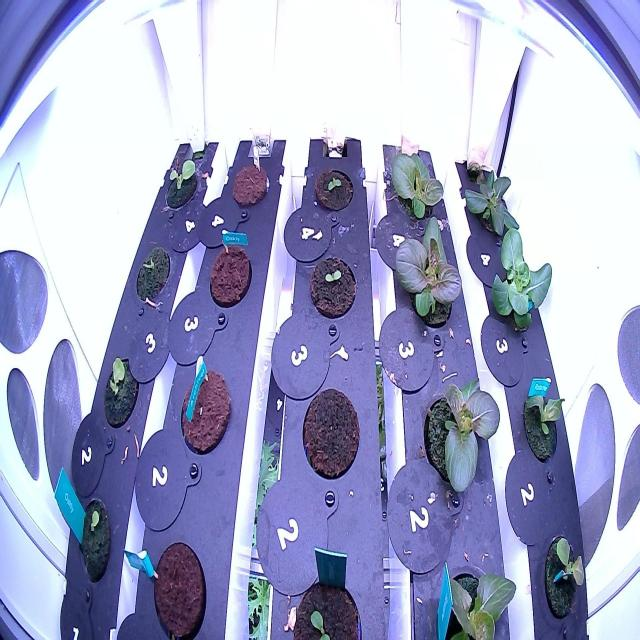germination: (284, 563, 366, 639), (307, 243, 360, 329), (73, 493, 114, 586), (102, 351, 140, 440), (160, 151, 203, 218), (134, 238, 174, 309), (308, 163, 355, 215)
pod: (298, 381, 363, 487), (151, 536, 210, 639), (175, 364, 232, 460), (206, 235, 254, 315), (230, 160, 272, 214)
young: (410, 363, 504, 519), (386, 207, 466, 339), (483, 217, 557, 352), (426, 545, 520, 640), (458, 156, 524, 252), (382, 137, 448, 229), (514, 370, 570, 473), (540, 523, 589, 625)
